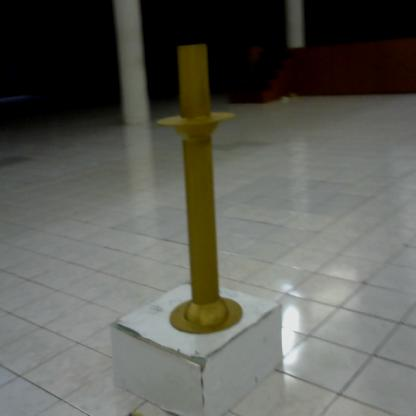pole: (149, 36, 248, 342)
